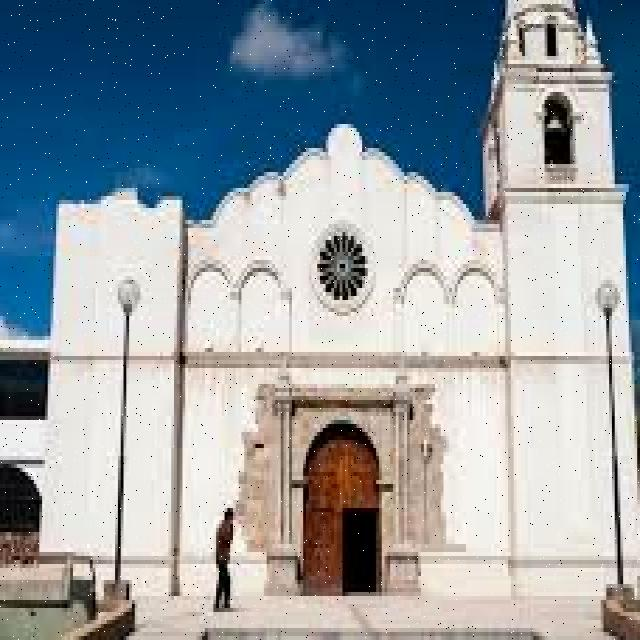CAMPANARIO: (486, 56, 639, 221)
CUPULA: (497, 0, 603, 52)
PORTADA CENTRAL: (270, 368, 412, 618)
TORRES: (474, 0, 640, 608)
